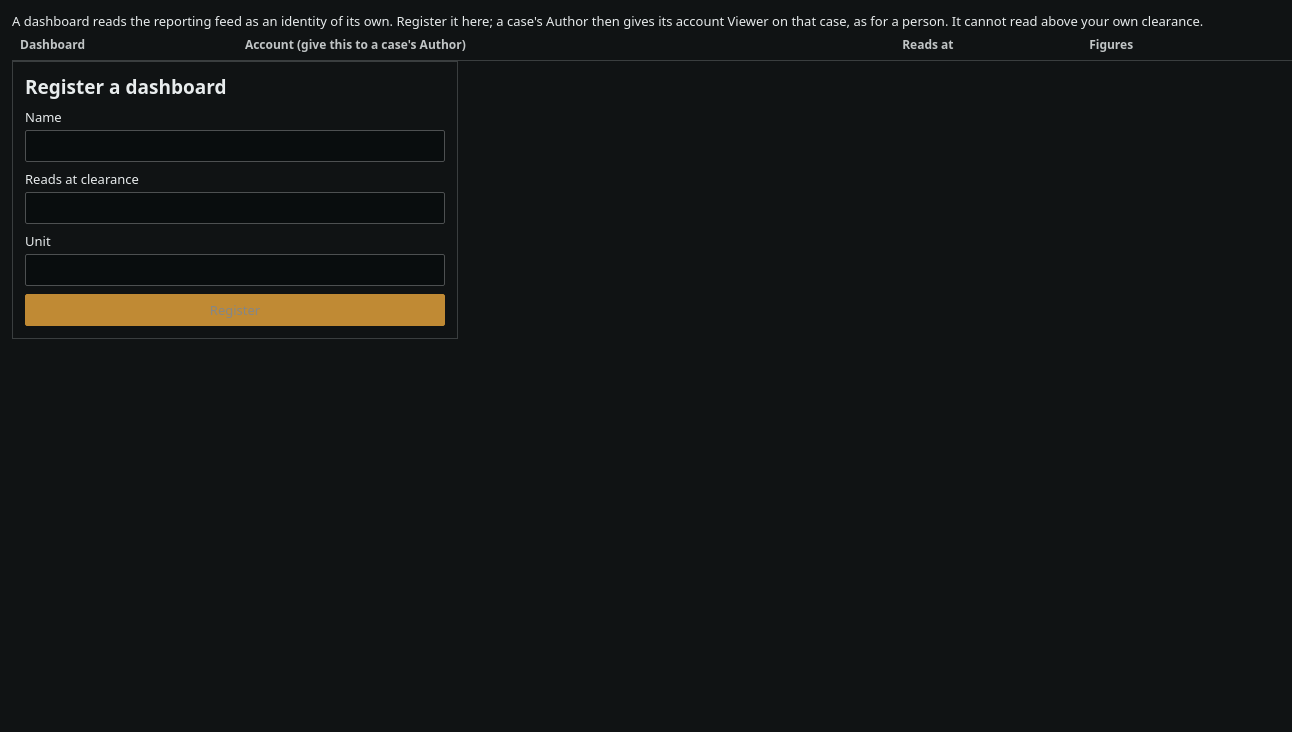
it: Admin › Dashboards on Entra ID sign-in › registers by application id, shows no secret, and names the app role to grant
Type "Board" into the field named "Dashboard name" at x=235, y=146, box [25, 130, 445, 162]
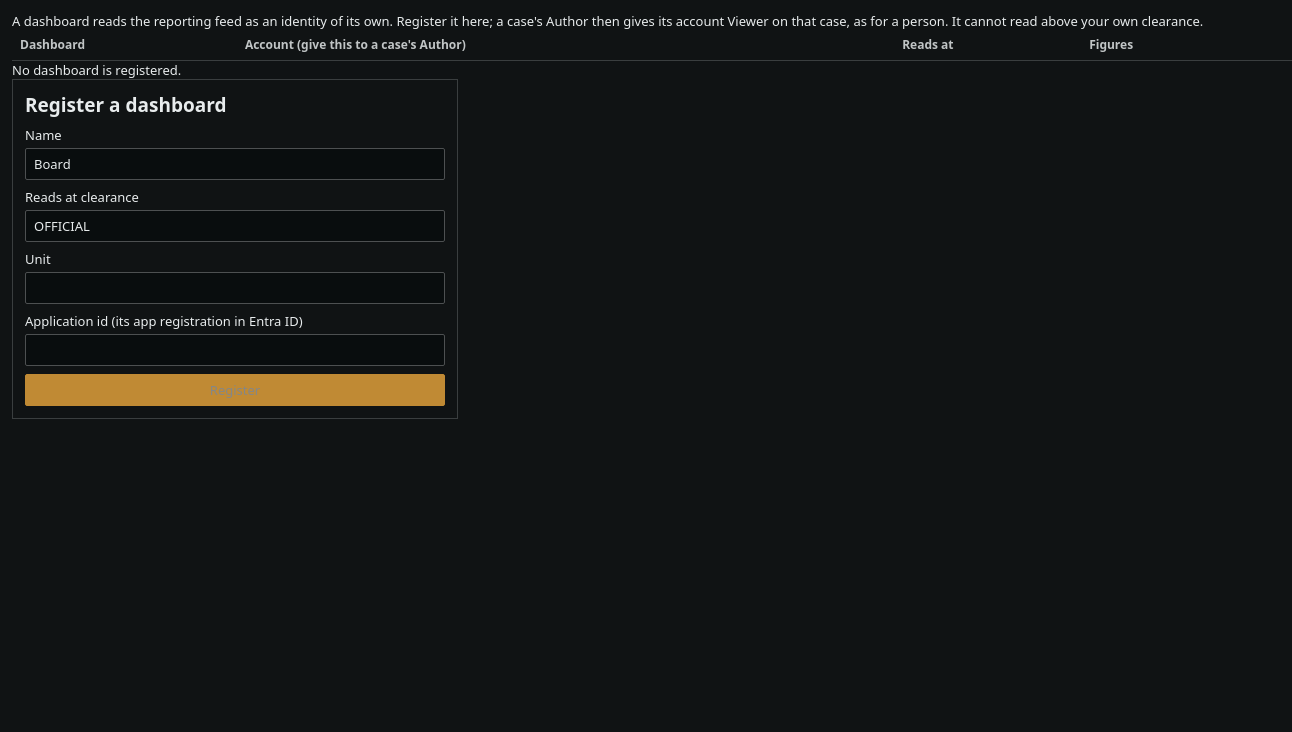
Type "unit-2" into the field named "Dashboard unit" at x=235, y=288, box [25, 272, 445, 304]
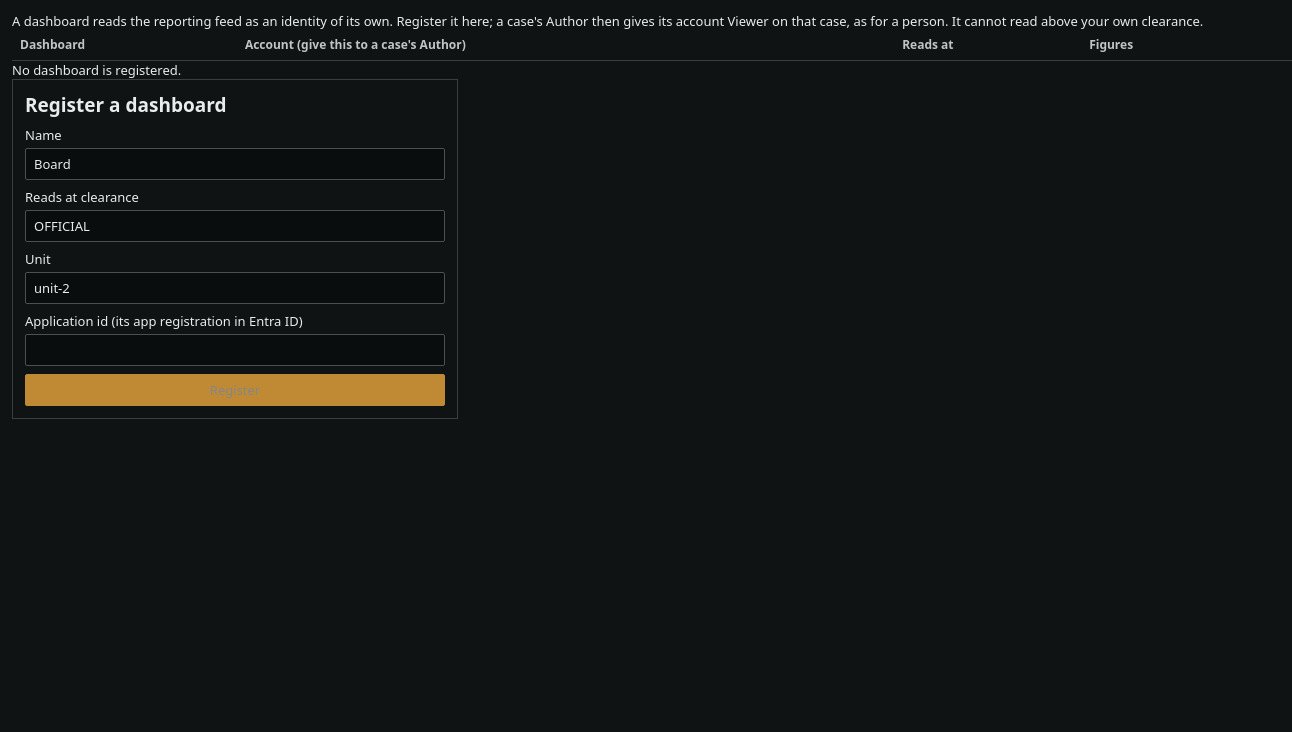
Check: the button "Register" is disabled, box [25, 374, 445, 406]
Check: the dropdown named "Dashboard reads at clearance" shows "OFFICIAL", box [25, 210, 445, 242]
Type "dddddddd-eeee-4fff-8000-111111111111" into the field named "Dashboard application id" at x=235, y=350, box [25, 334, 445, 366]
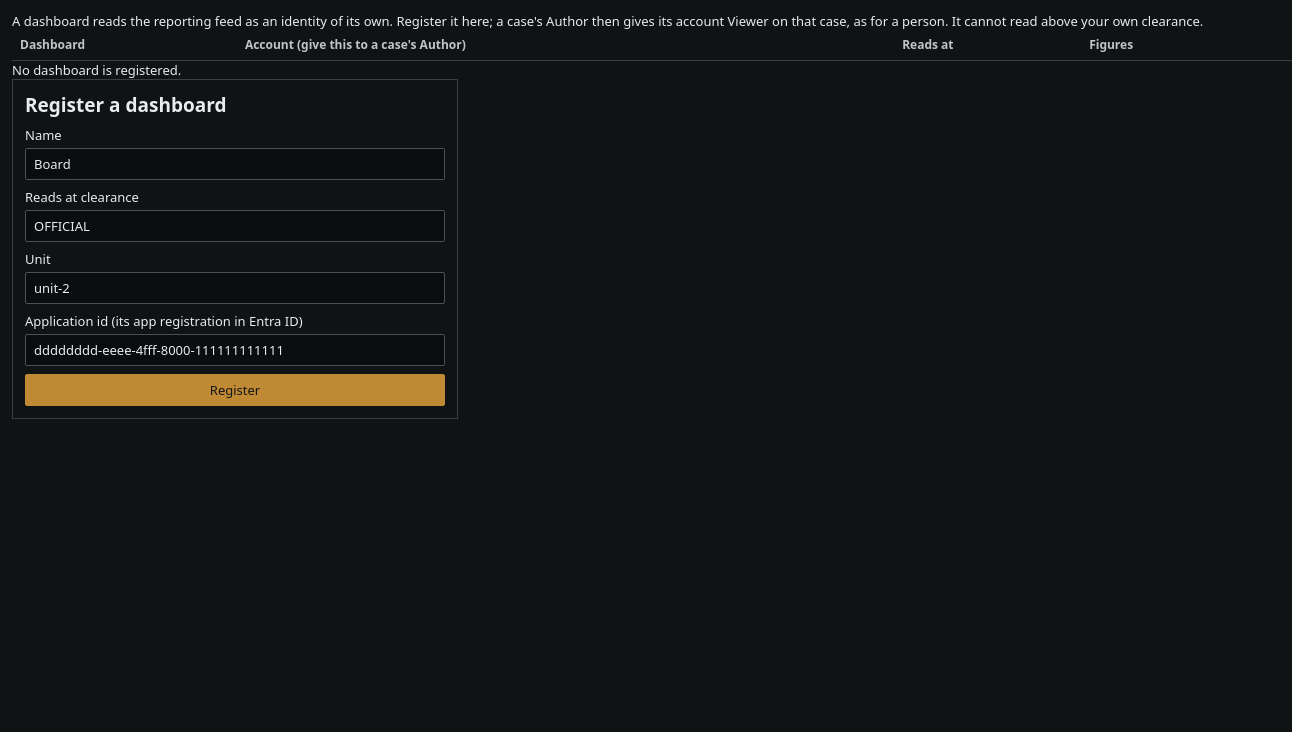
Click the button "Register" at x=235, y=390, box [25, 374, 445, 406]
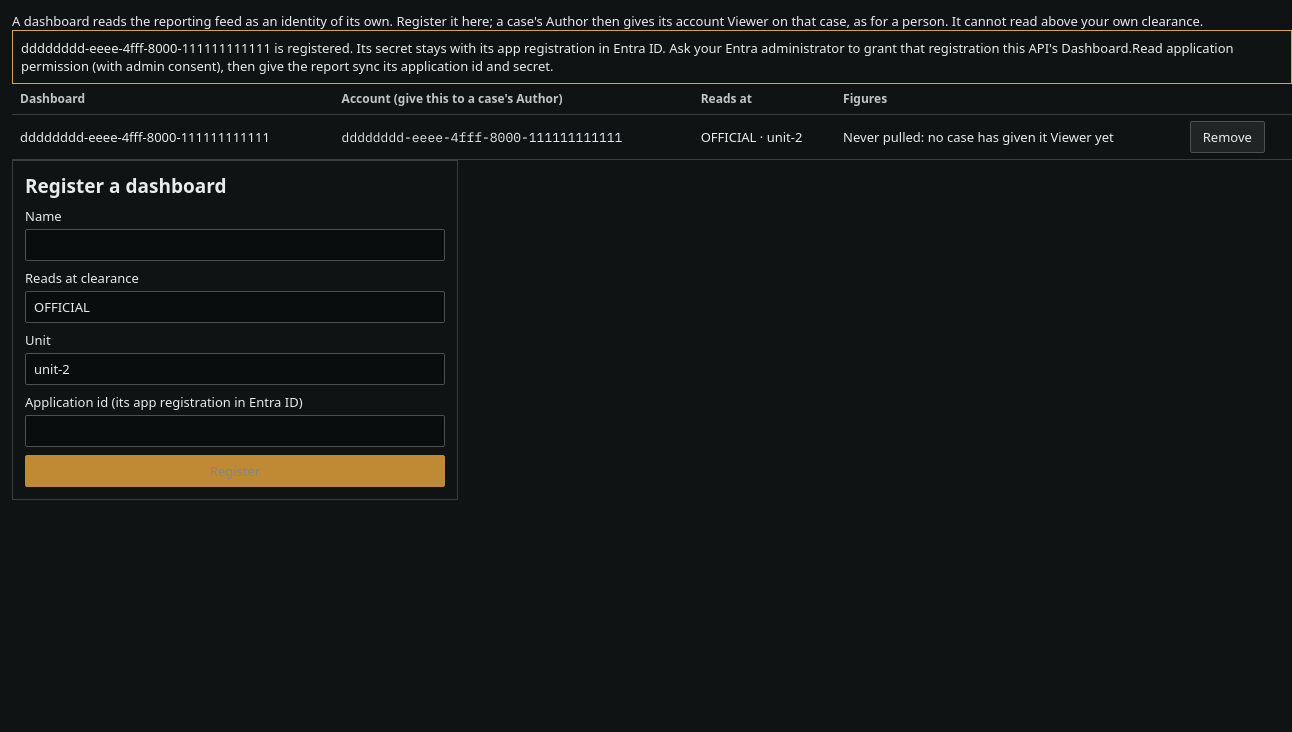
Check: the message shows "Dashboard.Read", box [21, 39, 1234, 75]
